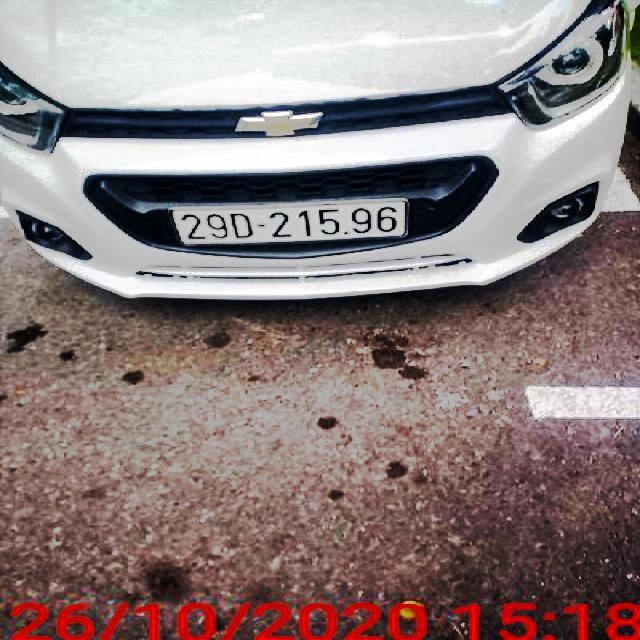license_plate: (171, 201, 406, 245)
